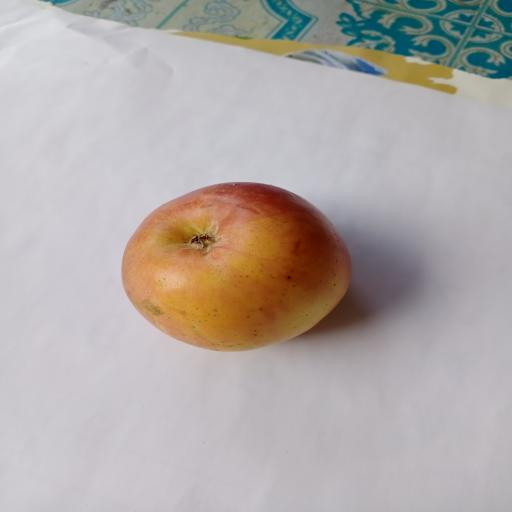apple-ripe: (99, 173, 366, 360)
